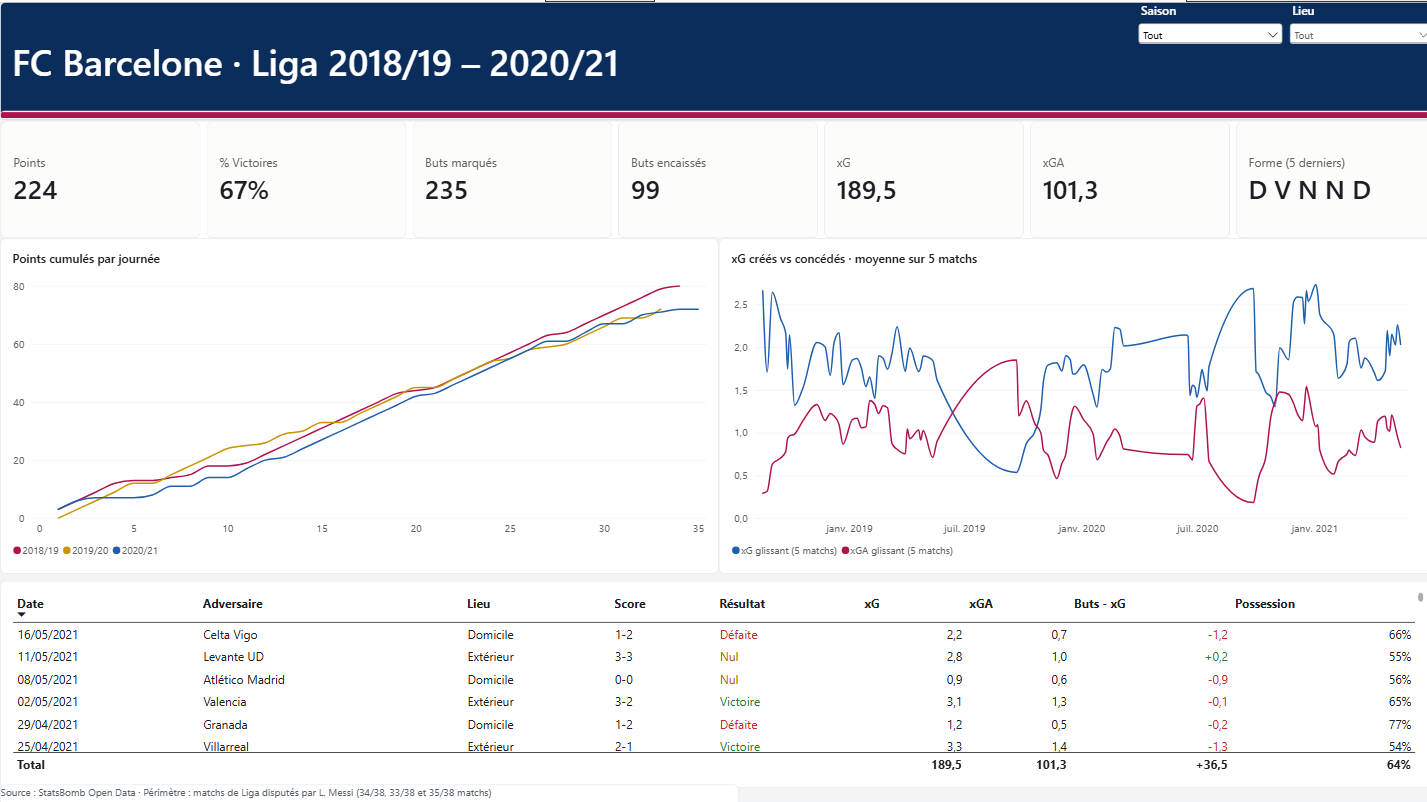

The dashboard page shown, as its layout file describes it:
{"tool":"powerbi","page":{"name":"Vue d'ensemble","canvas":[1920,1080],"ordinal":0},"visuals":[{"type":"shape","box":[0,0,1920,158],"z":0},{"type":"cardVisual","fields":{"Data":["_Mesures.Titre rapport"]},"box":[0,0,1516.1,158],"z":1000},{"type":"slicer","fields":{"Values":["DimMatch.season"]},"box":[1516.1,0,202,158],"z":2000},{"type":"slicer","fields":{"Values":["DimMatch.venue"]},"box":[1718,0,202,158],"z":3000},{"type":"cardVisual","fields":{"Data":["_Mesures.Points","_Mesures.% Victoires","_Mesures.Buts marqués","_Mesures.Buts encaissés","_Mesures.xG","_Mesures.xGA","_Mesures.Forme (5 derniers)"]},"box":[0,158,1920,158],"z":4000},{"type":"lineChart","title":"Points cumulés par journée","fields":{"Category":["DimMatch.Match n°"],"Series":["DimMatch.season"],"Y":["_Mesures.Points cumulés"]},"box":[0,316,960,448],"z":5000},{"type":"lineChart","title":"xG créés vs concédés · moyenne sur 5 matchs","fields":{"Category":["DimMatch.match_date"],"Y":["_Mesures.xG glissant (5 matchs)","_Mesures.xGA glissant (5 matchs)"]},"box":[960,316,960,448],"z":7000},{"type":"tableEx","fields":{"Values":["DimMatch.match_date","DimMatch.opponent_name","DimMatch.venue","DimMatch.score_label","DimMatch.result","_Mesures.xG","_Mesures.xGA","_Mesures.Buts - xG","_Mesures.Possession moyenne"]},"box":[0,773.3,1920,276.7],"z":8000},{"type":"shape","box":[0,146,1920,12],"z":9000},{"type":"textbox","box":[0,1045,987.4,30],"z":11000}]}

Visuals, with their boxes in screenshot pixels (x1, y1, x2, y2), scaled from the page's 1920x1080 canvas onto the 1427x802 screenshot:
shape: {"left": 0, "top": 0, "right": 1426, "bottom": 117}
cardVisual - _Mesures.Titre rapport: {"left": 0, "top": 0, "right": 1127, "bottom": 117}
slicer - DimMatch.season: {"left": 1127, "top": 0, "right": 1277, "bottom": 117}
slicer - DimMatch.venue: {"left": 1277, "top": 0, "right": 1426, "bottom": 117}
cardVisual - _Mesures.Points x _Mesures.% Victoires: {"left": 0, "top": 117, "right": 1426, "bottom": 235}
"Points cumulés par journée" lineChart: {"left": 0, "top": 235, "right": 714, "bottom": 567}
"xG créés vs concédés · moyenne sur 5 matchs" lineChart: {"left": 714, "top": 235, "right": 1426, "bottom": 567}
tableEx - DimMatch.match_date x DimMatch.opponent_name: {"left": 0, "top": 574, "right": 1426, "bottom": 780}
shape: {"left": 0, "top": 108, "right": 1426, "bottom": 117}
textbox: {"left": 0, "top": 776, "right": 734, "bottom": 798}
